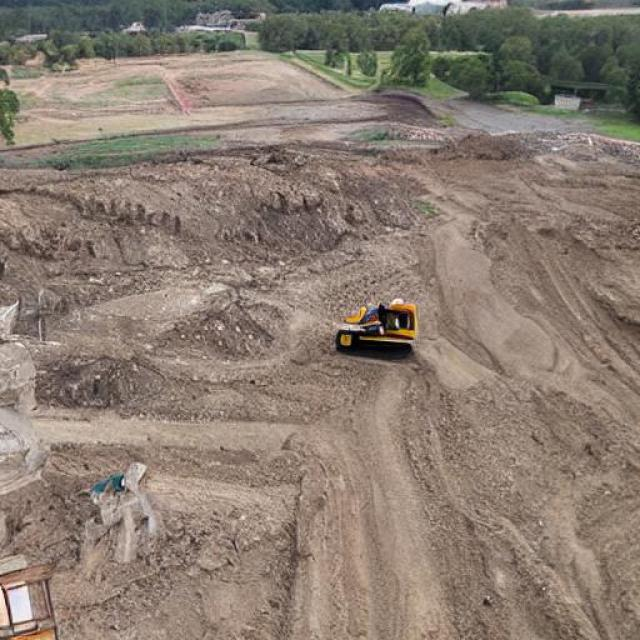excavator: (132, 128, 550, 468)
